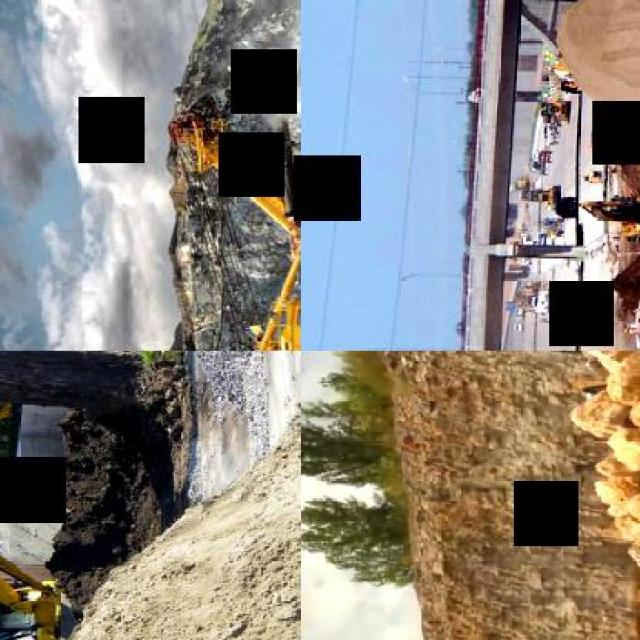buldozerpayloadergrader: (492, 351, 638, 638)
excavator: (0, 350, 72, 638), (577, 195, 638, 240)
